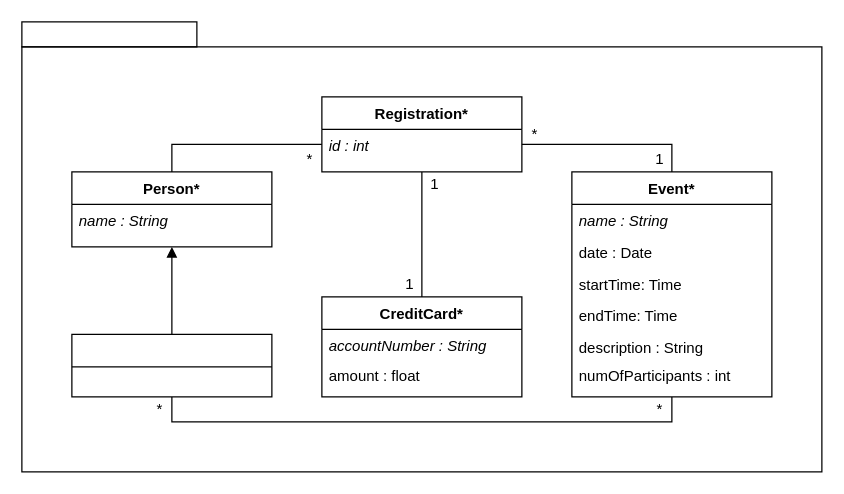
The diagram is 844 pixels wide and 494 high, and some of its shapes have lost their labels. Here are the shapes that lost their labels. From the top down, the centre of each, then its label:
At [109,34]: "RegistrationManager".
At [171,365]: "Organizer".
